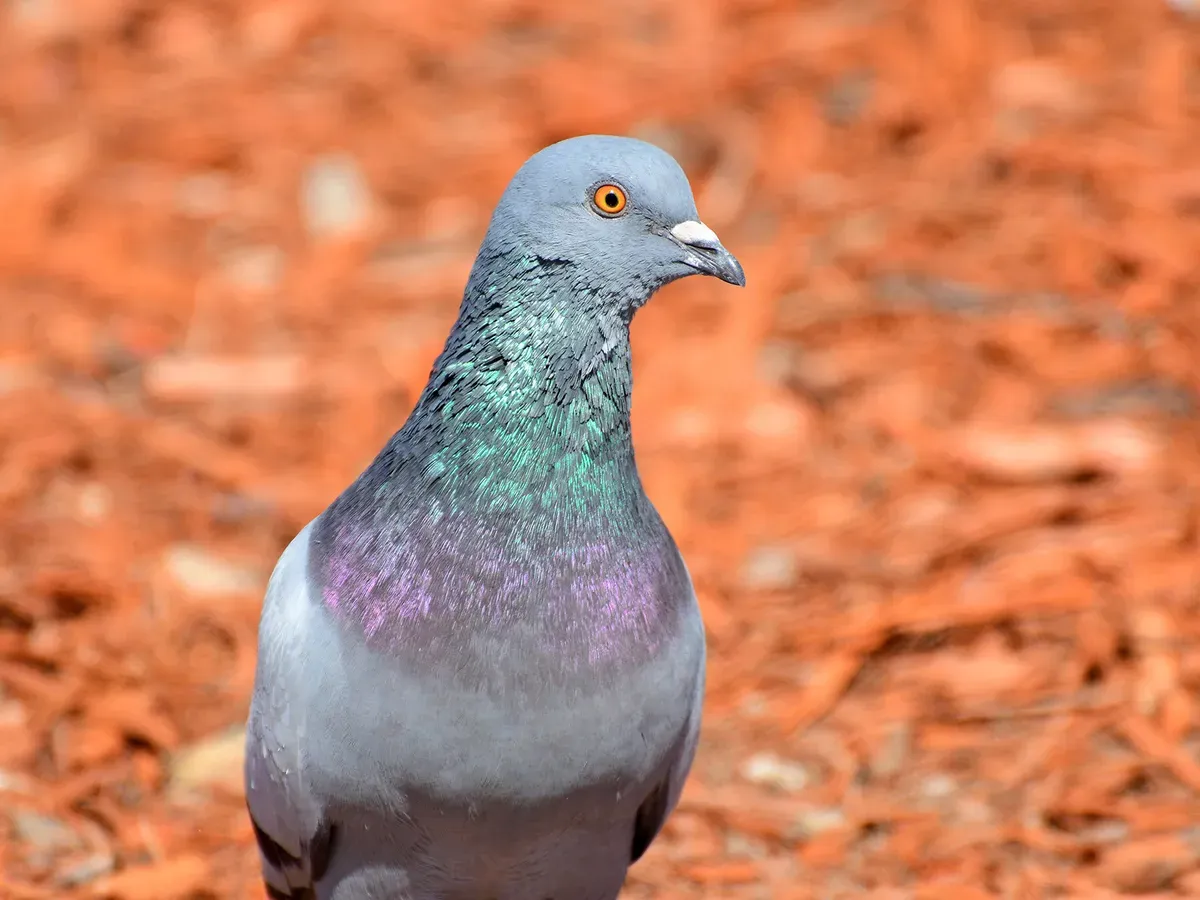Flying Rat: (214, 128, 776, 898)
